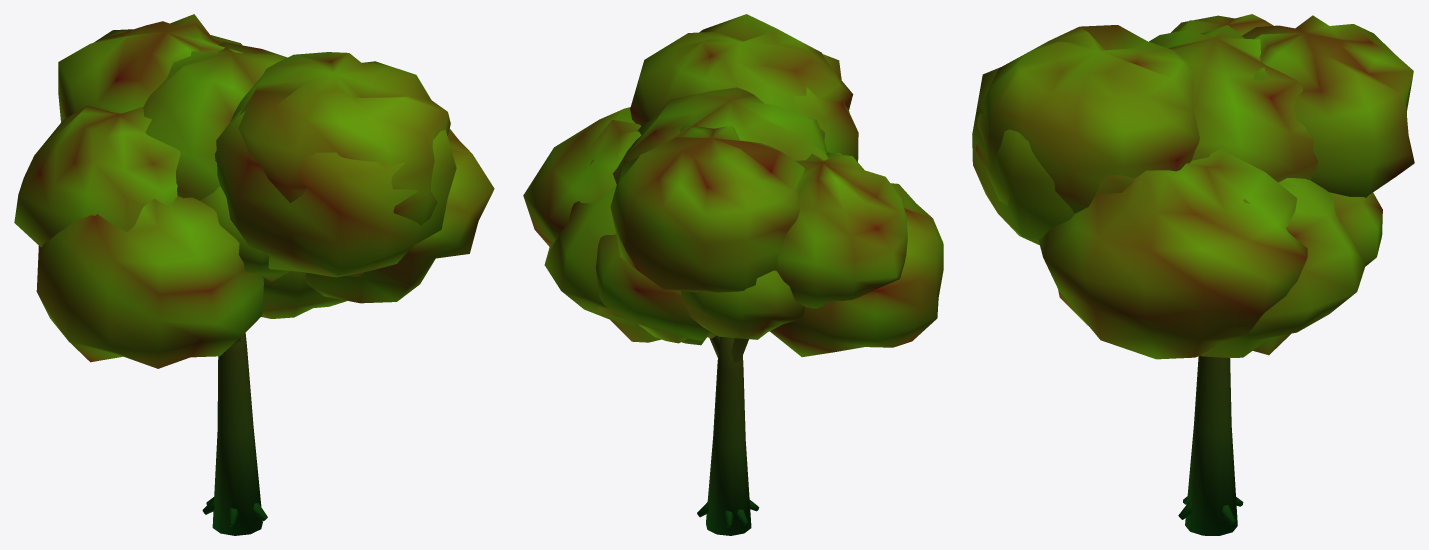
Rendered from tree_oak_c.glb.
3 renders of one model, left to right at view 1: azimuth 30°, elevation 25°; view 2: azimuth 150°, elevation 25°; view 3: azimuth 270°, elevation 25°, orthographic. The views are drawn at different scales.
Visible parts, largest first — view 1: tree_oak_c; view 2: tree_oak_c; view 3: tree_oak_c.
Boxes of the visible parts, x1,y1,x2,y2 form: tree_oak_c: (14,14,494,535); tree_oak_c: (523,14,943,535); tree_oak_c: (972,14,1414,535).
Size of what is drawn, in the model's own units: 7.82 by 8.76 by 7.03.
